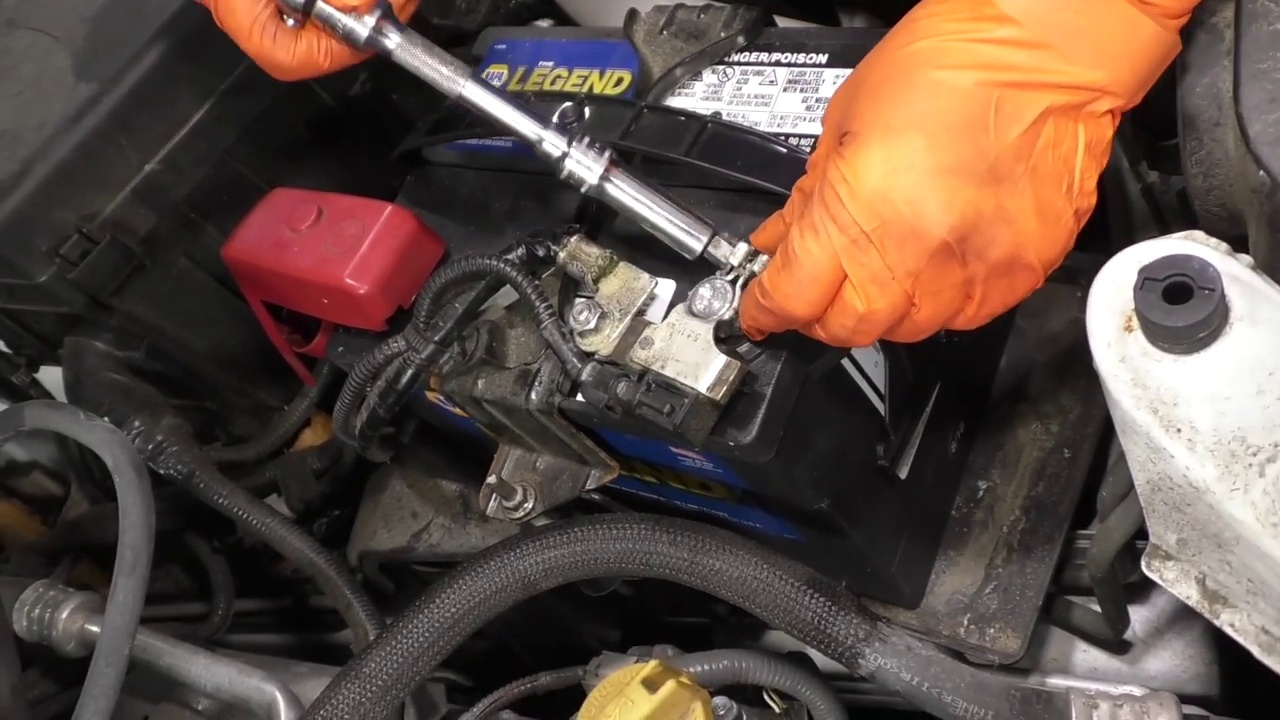battery: (306, 29, 913, 442)
neg_connected: (617, 226, 755, 432)
neg_touched: (649, 165, 891, 426)
pos_connected: (206, 183, 421, 387)
